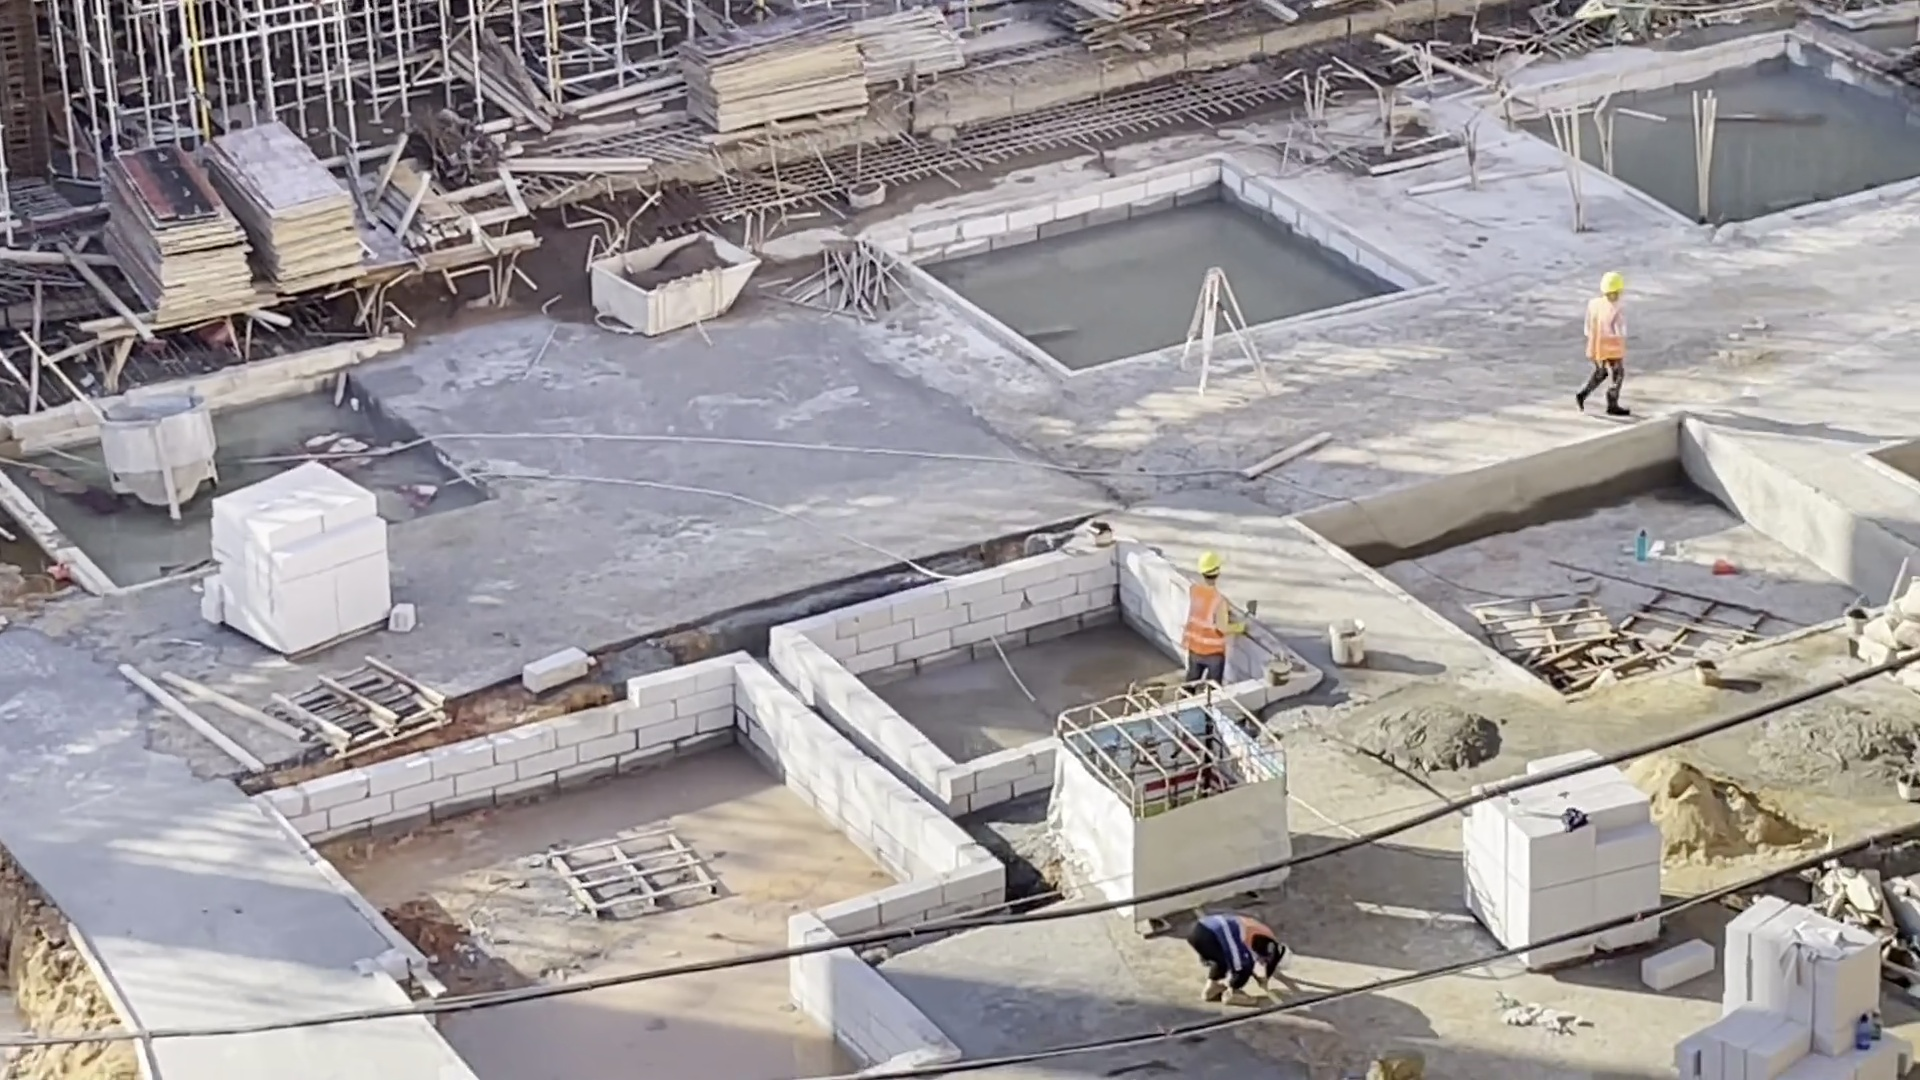board: (206, 111, 371, 257), (158, 132, 248, 327), (671, 49, 809, 119)
brick: (1484, 764, 1694, 996), (231, 466, 409, 659), (1744, 926, 1871, 1080)
helmet: (1603, 267, 1636, 312), (1196, 546, 1233, 582), (1283, 941, 1294, 974)
hopper: (591, 227, 758, 334)
person: (1179, 893, 1293, 998), (1583, 280, 1643, 433), (1189, 560, 1239, 681)
vest: (1201, 911, 1286, 957), (1589, 304, 1638, 381), (1189, 579, 1234, 659)
wood: (1076, 1, 1205, 47)
